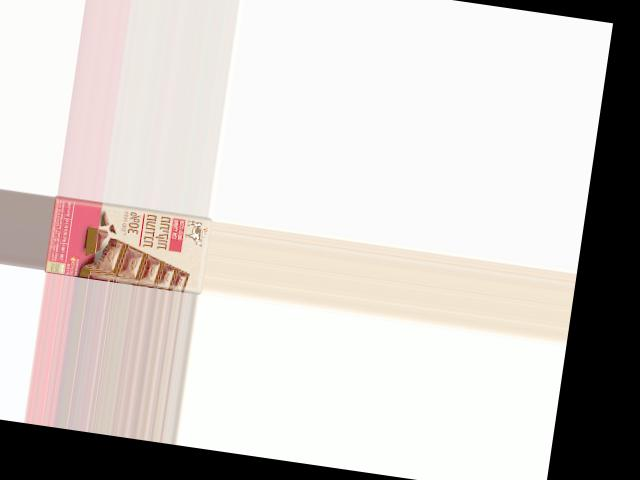chocolate: (45, 194, 212, 294)
